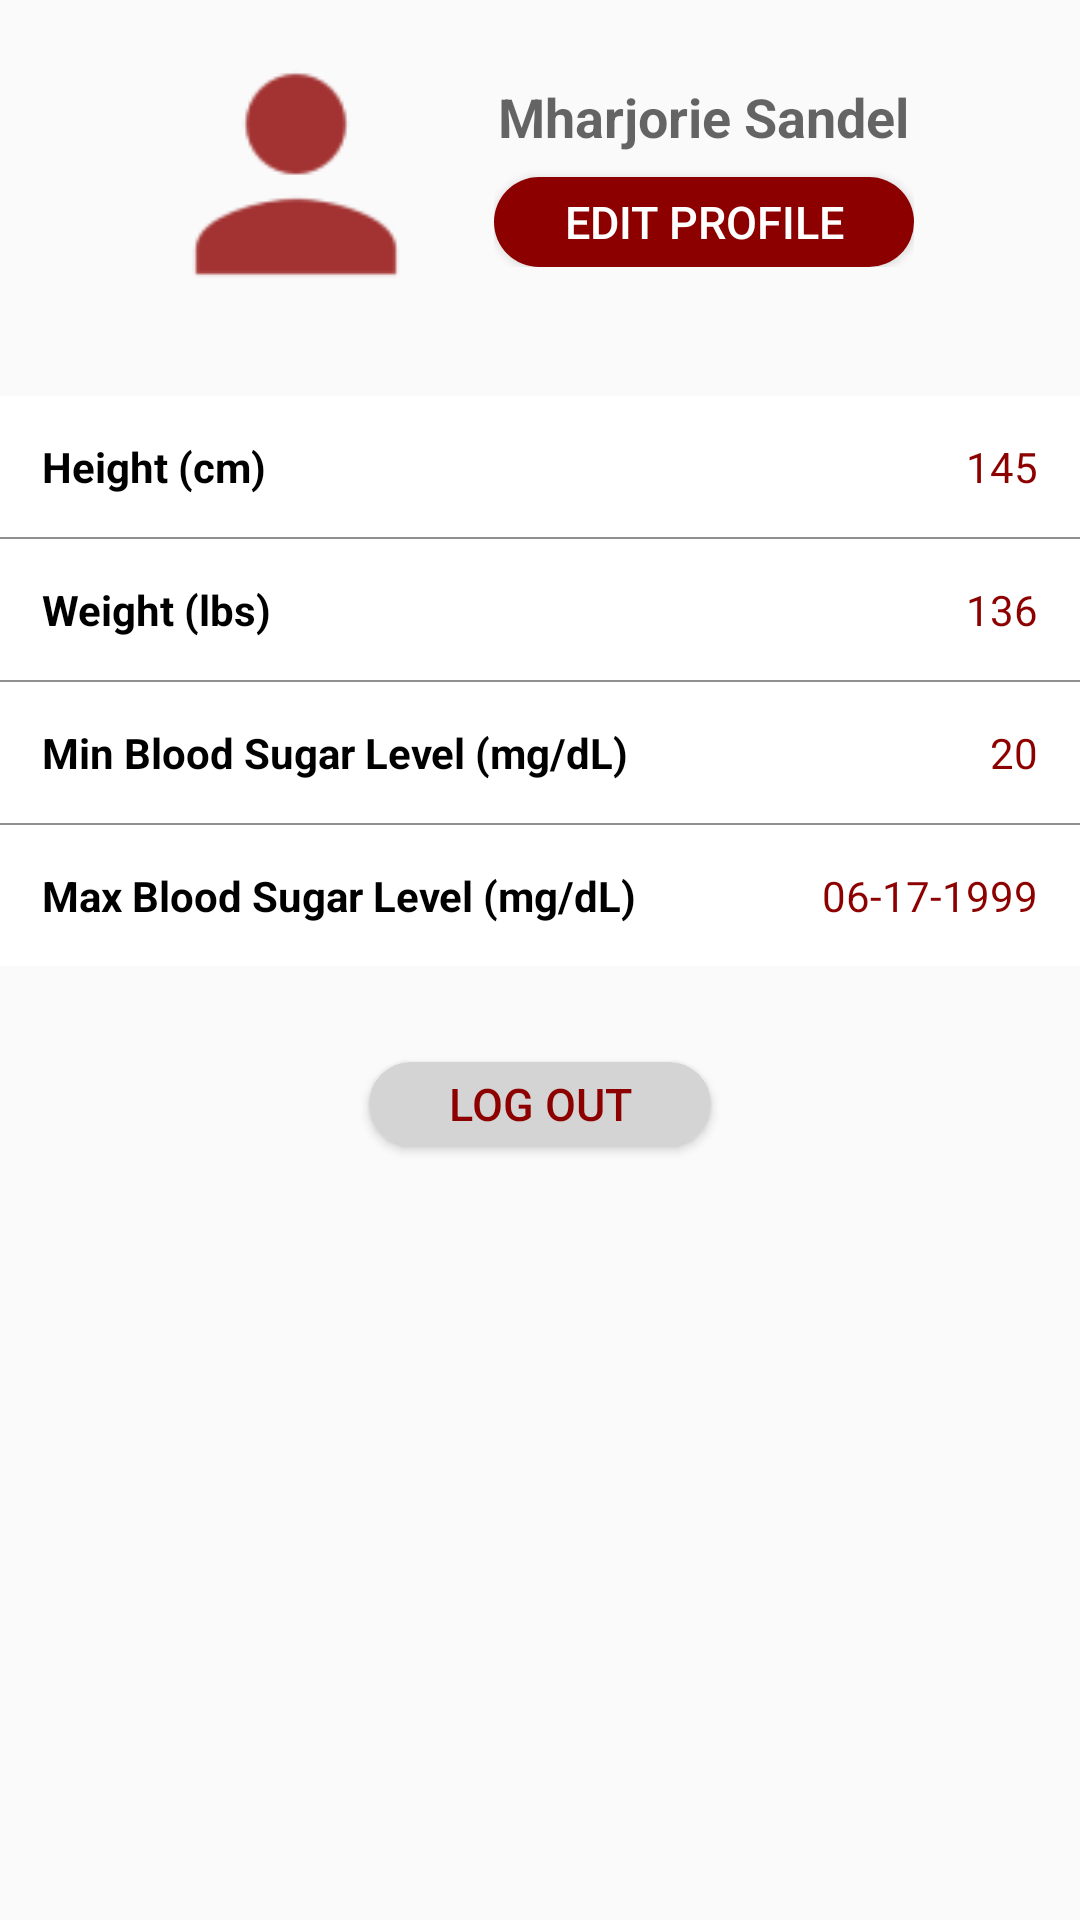

Where to tap for icons on this 1080px×1920px app screen, as point (x, y):
user: point (296, 174)
